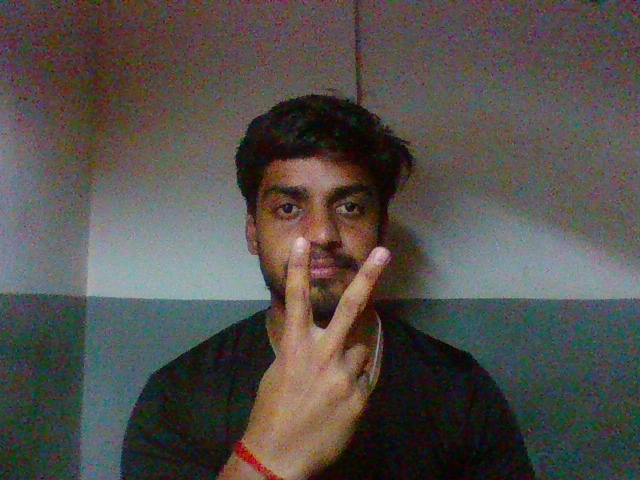V: (255, 234, 400, 454)
